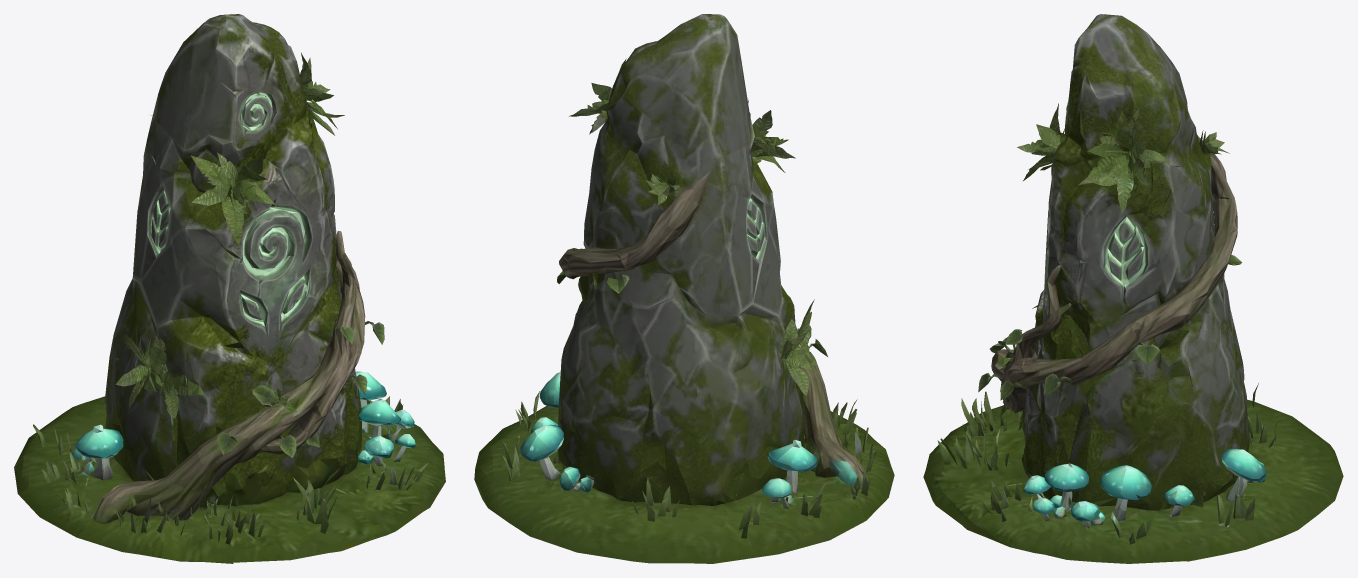
Rendered from stone.glb.
3 views of the same model, side by side, from view 1: azimuth 30°, elevation 25°; view 2: azimuth 150°, elevation 25°; view 3: azimuth 270°, elevation 25° (orthographic). The views are drawn at different scales.
Parts seen in each view (by area): view 1: Mesh_0; view 2: Mesh_0; view 3: Mesh_0.
Part boxes in pixels (x1,y1,x2,y2): Mesh_0: (14, 14, 445, 563); Mesh_0: (474, 14, 894, 563); Mesh_0: (923, 14, 1343, 563).
Size of the model in its own units: 1.61 by 1.9 by 1.6.
1 material, 1 textured.
